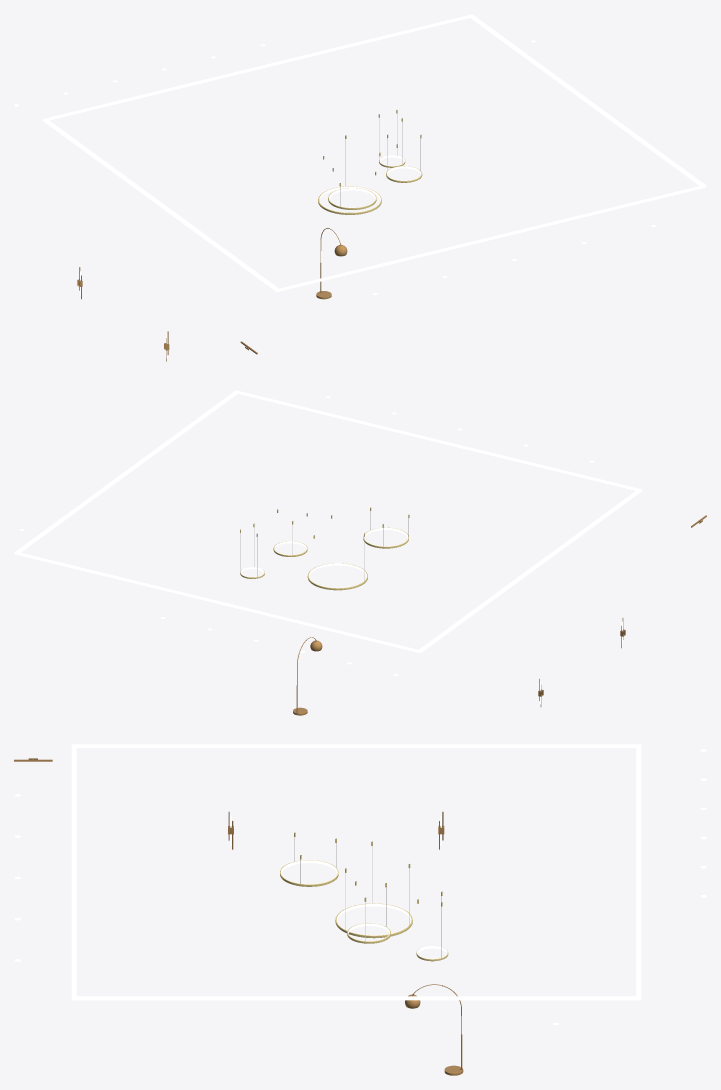
File: CommunityRoomA_GoldLights.fbx
The picture shows the model from 3 angles, top to bottom: view 1: azimuth 30°, elevation 25°; view 2: azimuth 150°, elevation 25°; view 3: azimuth 270°, elevation 25°; orthographic projection. The views are drawn at different scales.
Parts seen in each view (by area): view 1: CommunityRoomA_GoldLights; view 2: CommunityRoomA_GoldLights; view 3: CommunityRoomA_GoldLights.
Part boxes in pixels (x1,y1,x2,y2): CommunityRoomA_GoldLights: (14, 14, 706, 361); CommunityRoomA_GoldLights: (14, 390, 706, 715); CommunityRoomA_GoldLights: (14, 744, 706, 1075).
Size of the model in its own units: 1281 by 419 by 1255.
